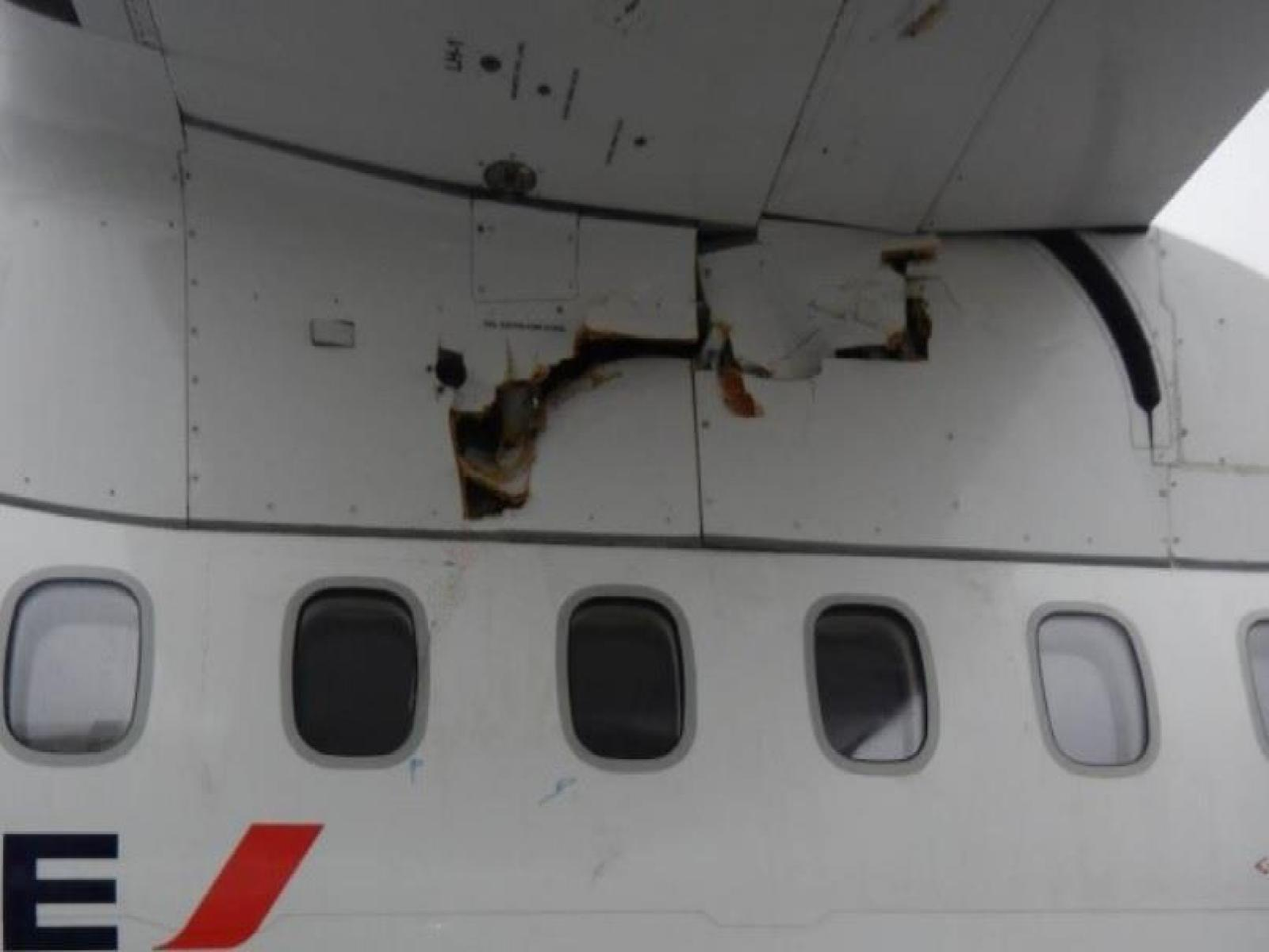Fuselage_damage: (450, 323, 740, 517), (538, 265, 771, 415), (833, 240, 937, 359), (436, 346, 466, 388)
